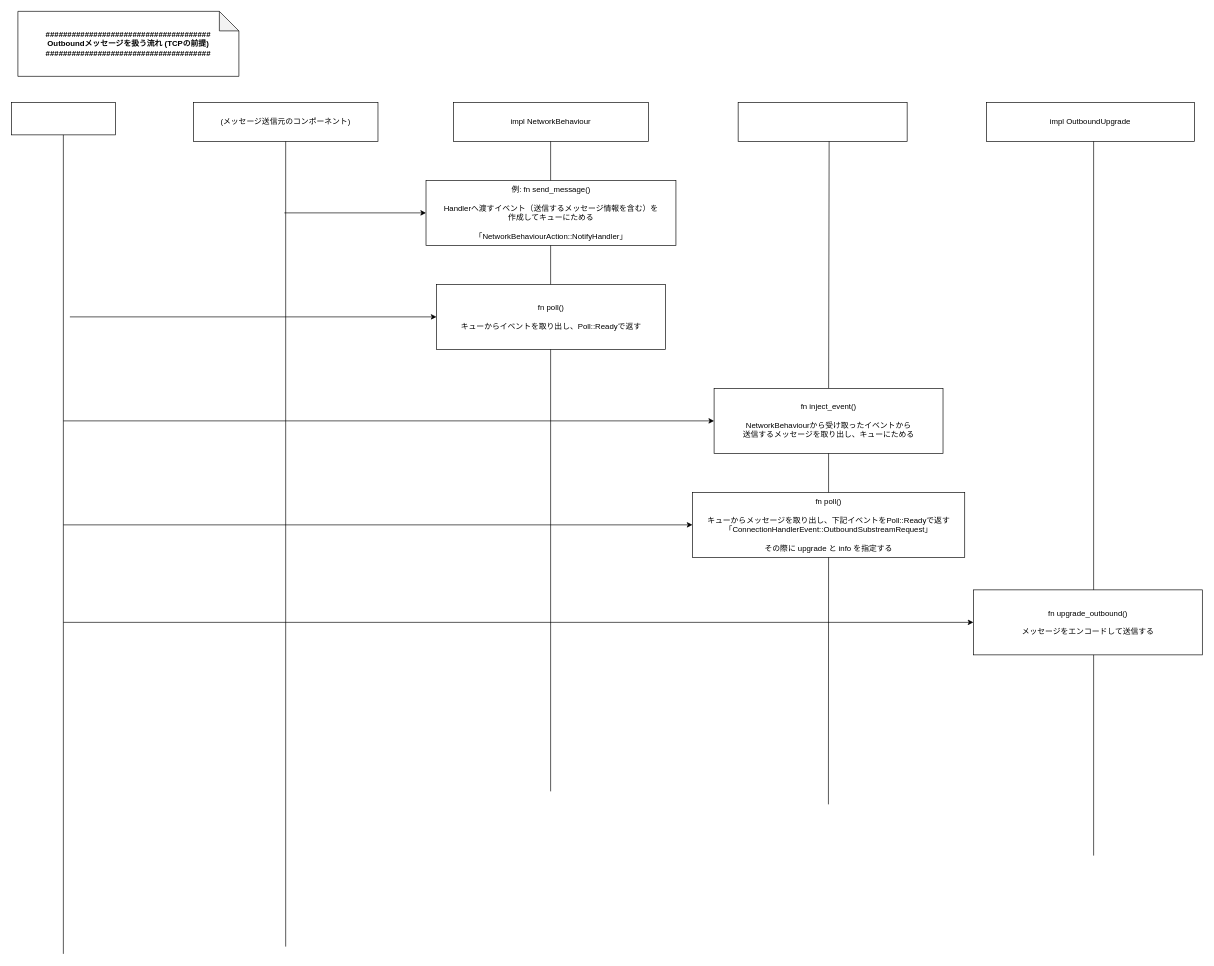
This 1214x966 diagram has some shape labels left out. The shapes that lost their labels are listed below. From the top down, each one's box as (x1, y1, x2, y2) in pixels, then its label:
(11, 102, 115, 135): libp2p
(737, 102, 907, 141): impl ConnectionHandler
